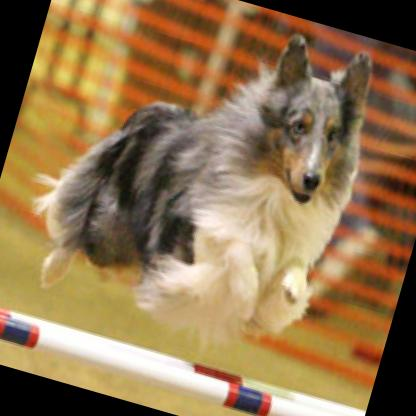Shetland_sheepdog: (4, 0, 394, 371)
